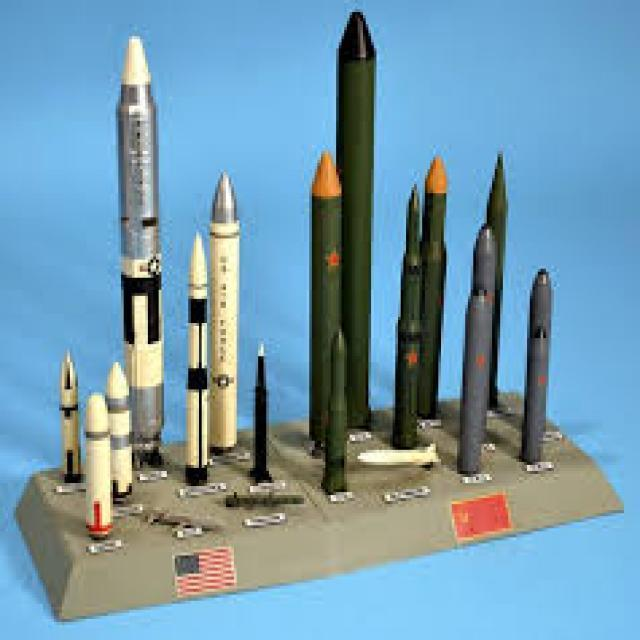missile: (112, 33, 174, 464), (327, 0, 378, 438), (297, 147, 347, 464), (210, 153, 246, 458), (513, 263, 565, 474)
